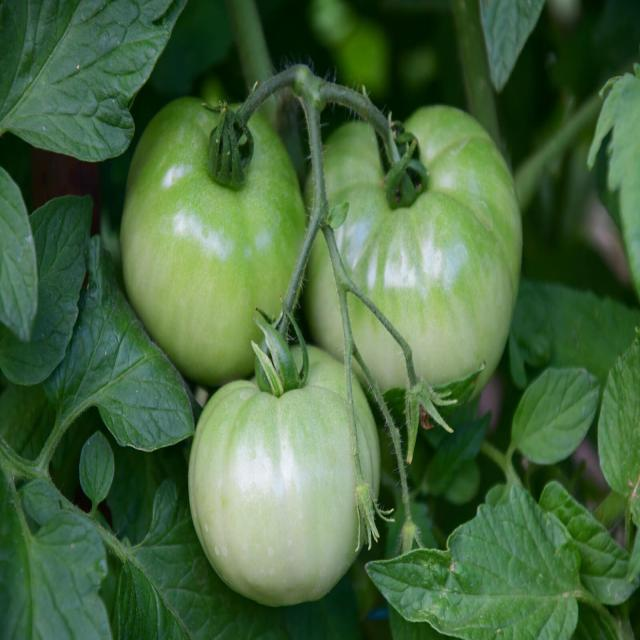yesil: (128, 72, 531, 605)
